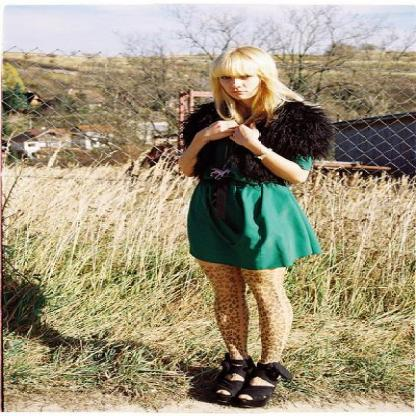dress: (187, 174, 318, 270)
jacket: (179, 100, 331, 190)
shoe: (202, 358, 280, 407)
